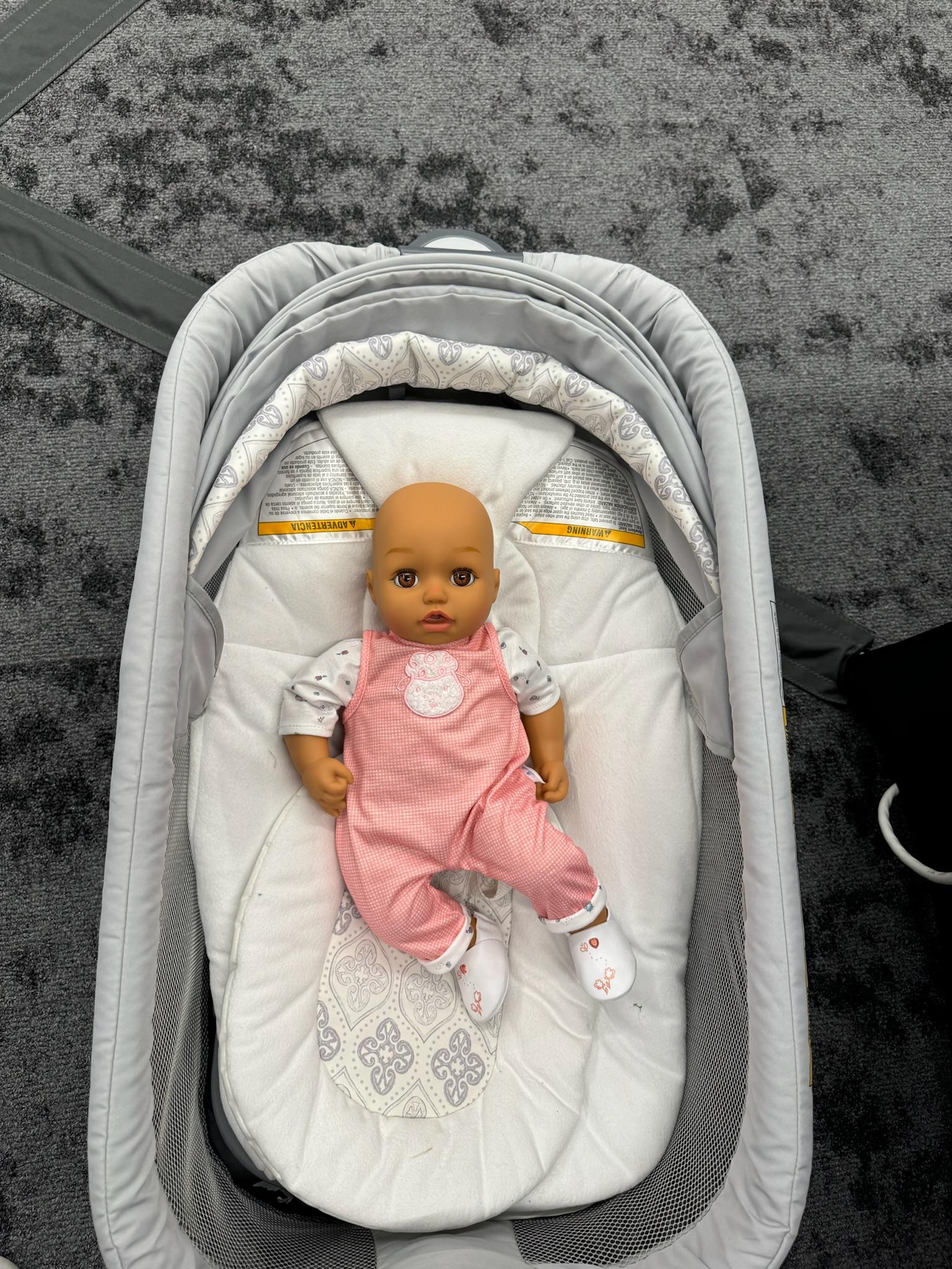baby: (272, 476, 643, 1027)
